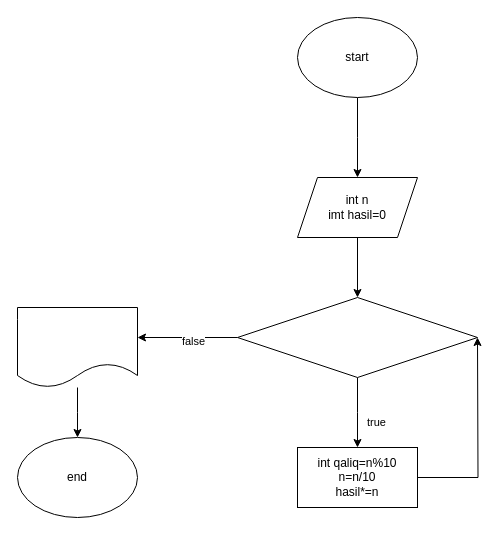
Image size: 504x535. Some labels were removed from this diagram. The shapes that lost their labels are listed below. From the top down, each one's centre as x and y in pixels, then its label:
At (x=77, y=347): "hasil=".
At (x=357, y=337): "n!=0".
